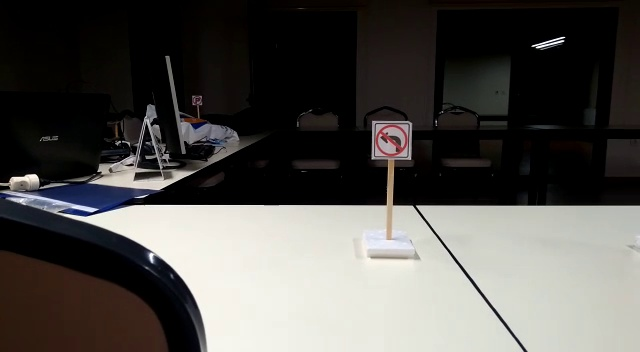sola_donulmez: (371, 118, 417, 162)
